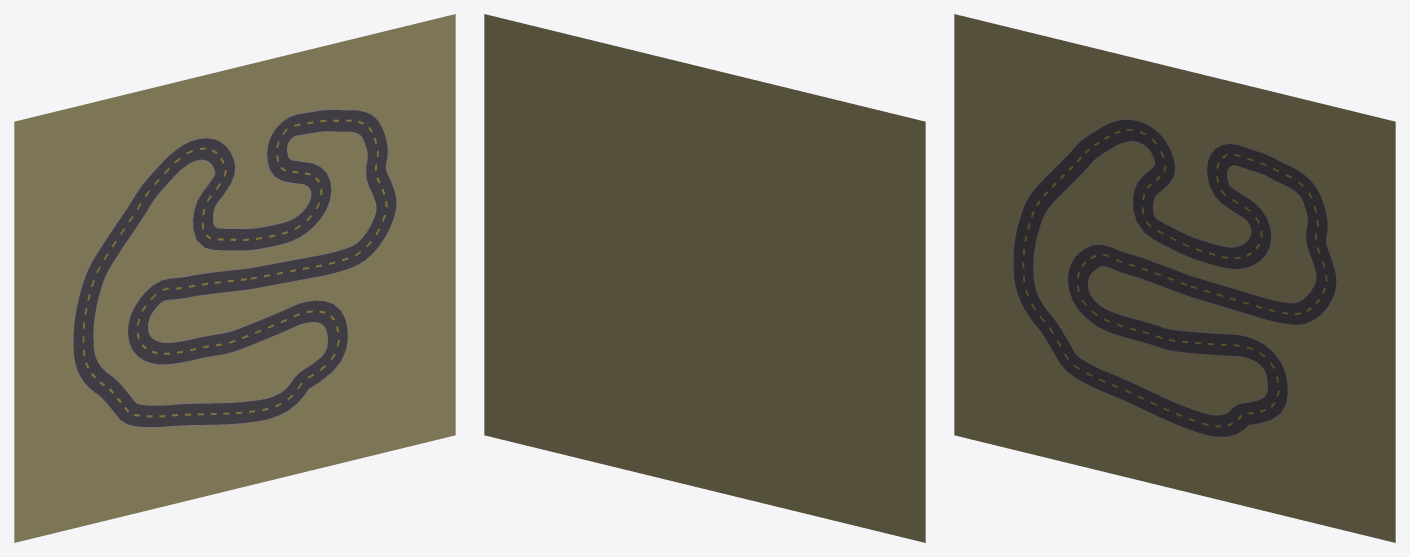
The model's file is track.obj.
3 renders of one model, left to right at view 1: azimuth 30°, elevation 25°; view 2: azimuth 150°, elevation 25°; view 3: azimuth 330°, elevation 25°, orthographic.
Size of the model in its own units: 21.95 by 20.02 by 0.0025.
4 materials, 4 textured.
